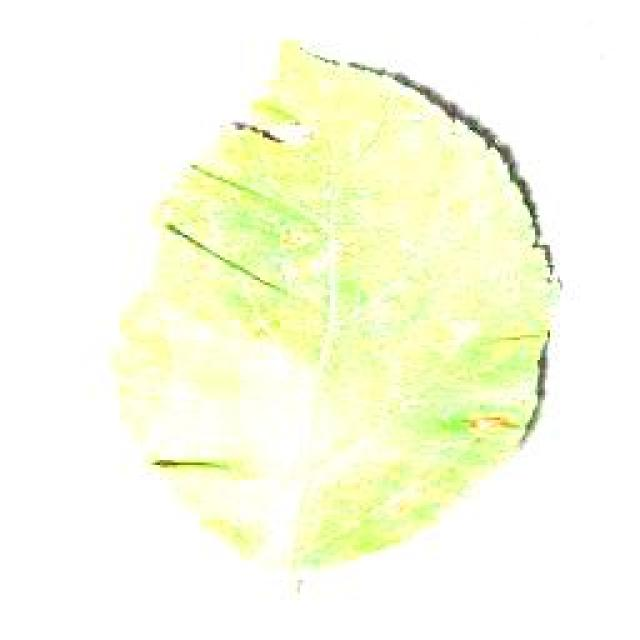apple rust disease: (108, 35, 562, 590)
